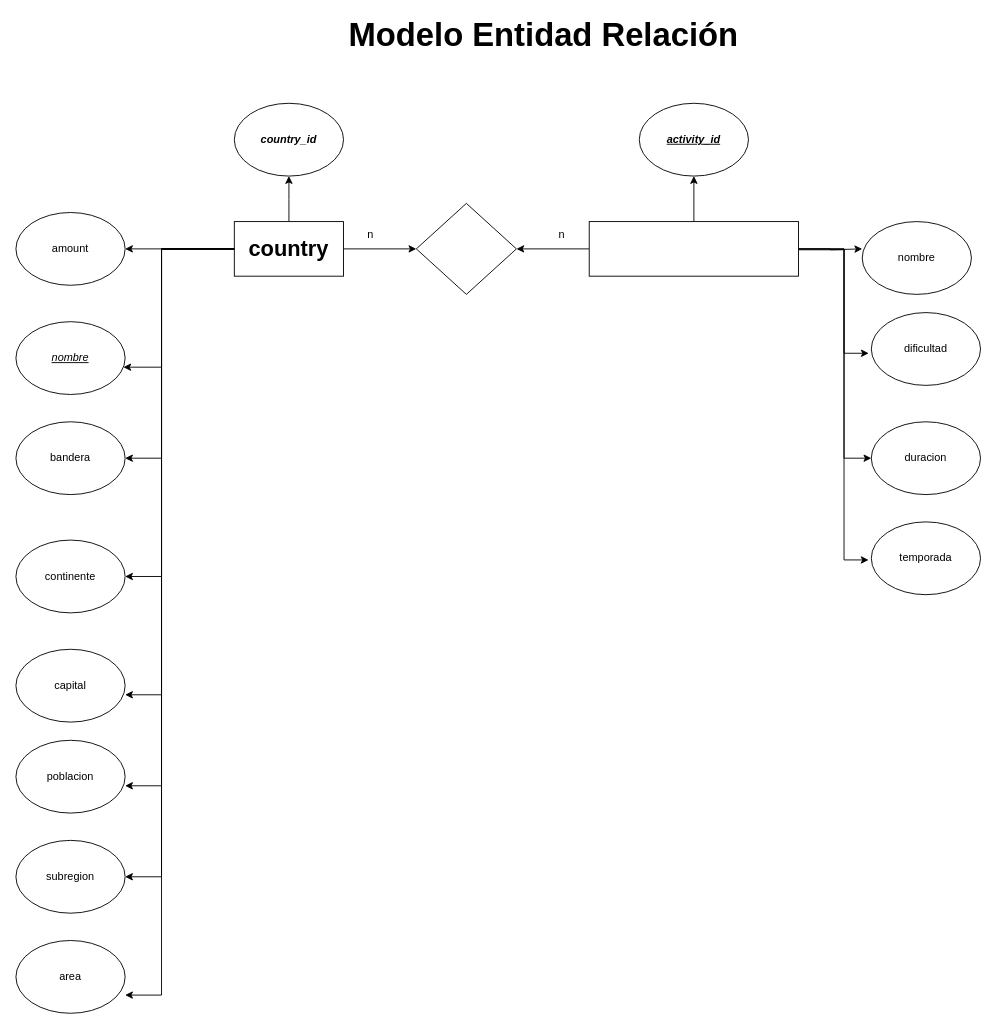
The diagram is 996 pixels wide and 1029 high, and some of its shapes have lost their labels. Here are the shapes that lost their labels. From the top down, the centre of each, then its label:
(x=465, y=248): pertenece
(x=693, y=248): activity
